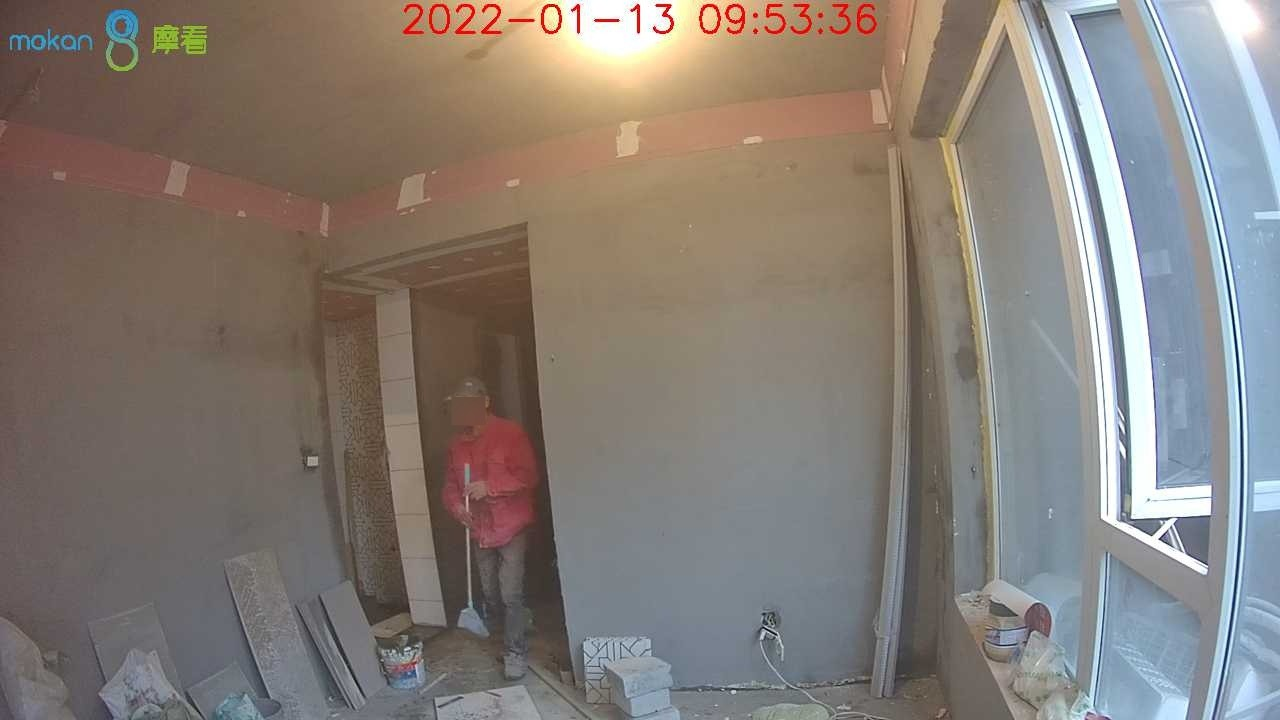people: (438, 379, 541, 679)
window: (940, 6, 1280, 718)
